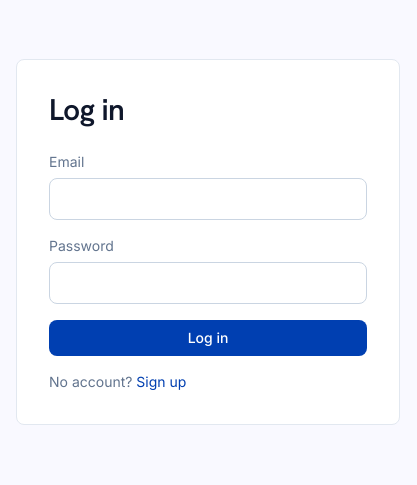
Scenario: LoginPage › offers to resend the verification email on a 403
The image size is (417, 485).
In the field labelled "Email": (208, 198) [49,178,367,220], type "user@example.com"
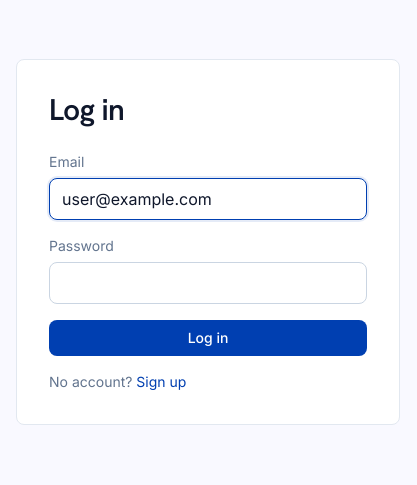
In the password field labelled "Password": (208, 282) [49,262,367,304], type "password123"
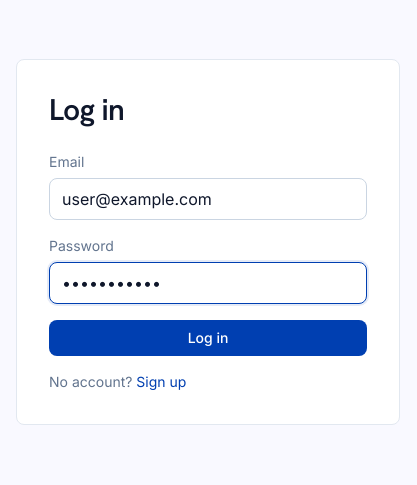
Click the button "Log in": (208, 338) [49,320,367,356]
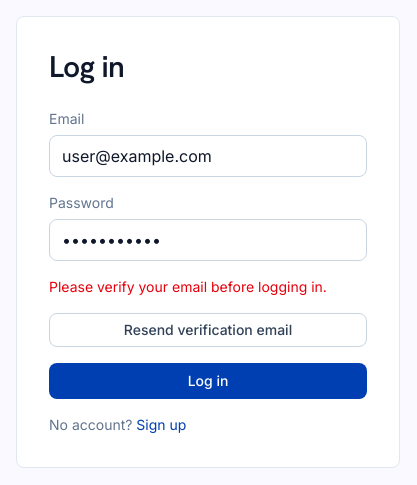
Expected: the text "Please verify your email before logging in." is shown, [49,276,367,296]
Expected: the button "Resend verification email" is shown, [49,312,367,346]
